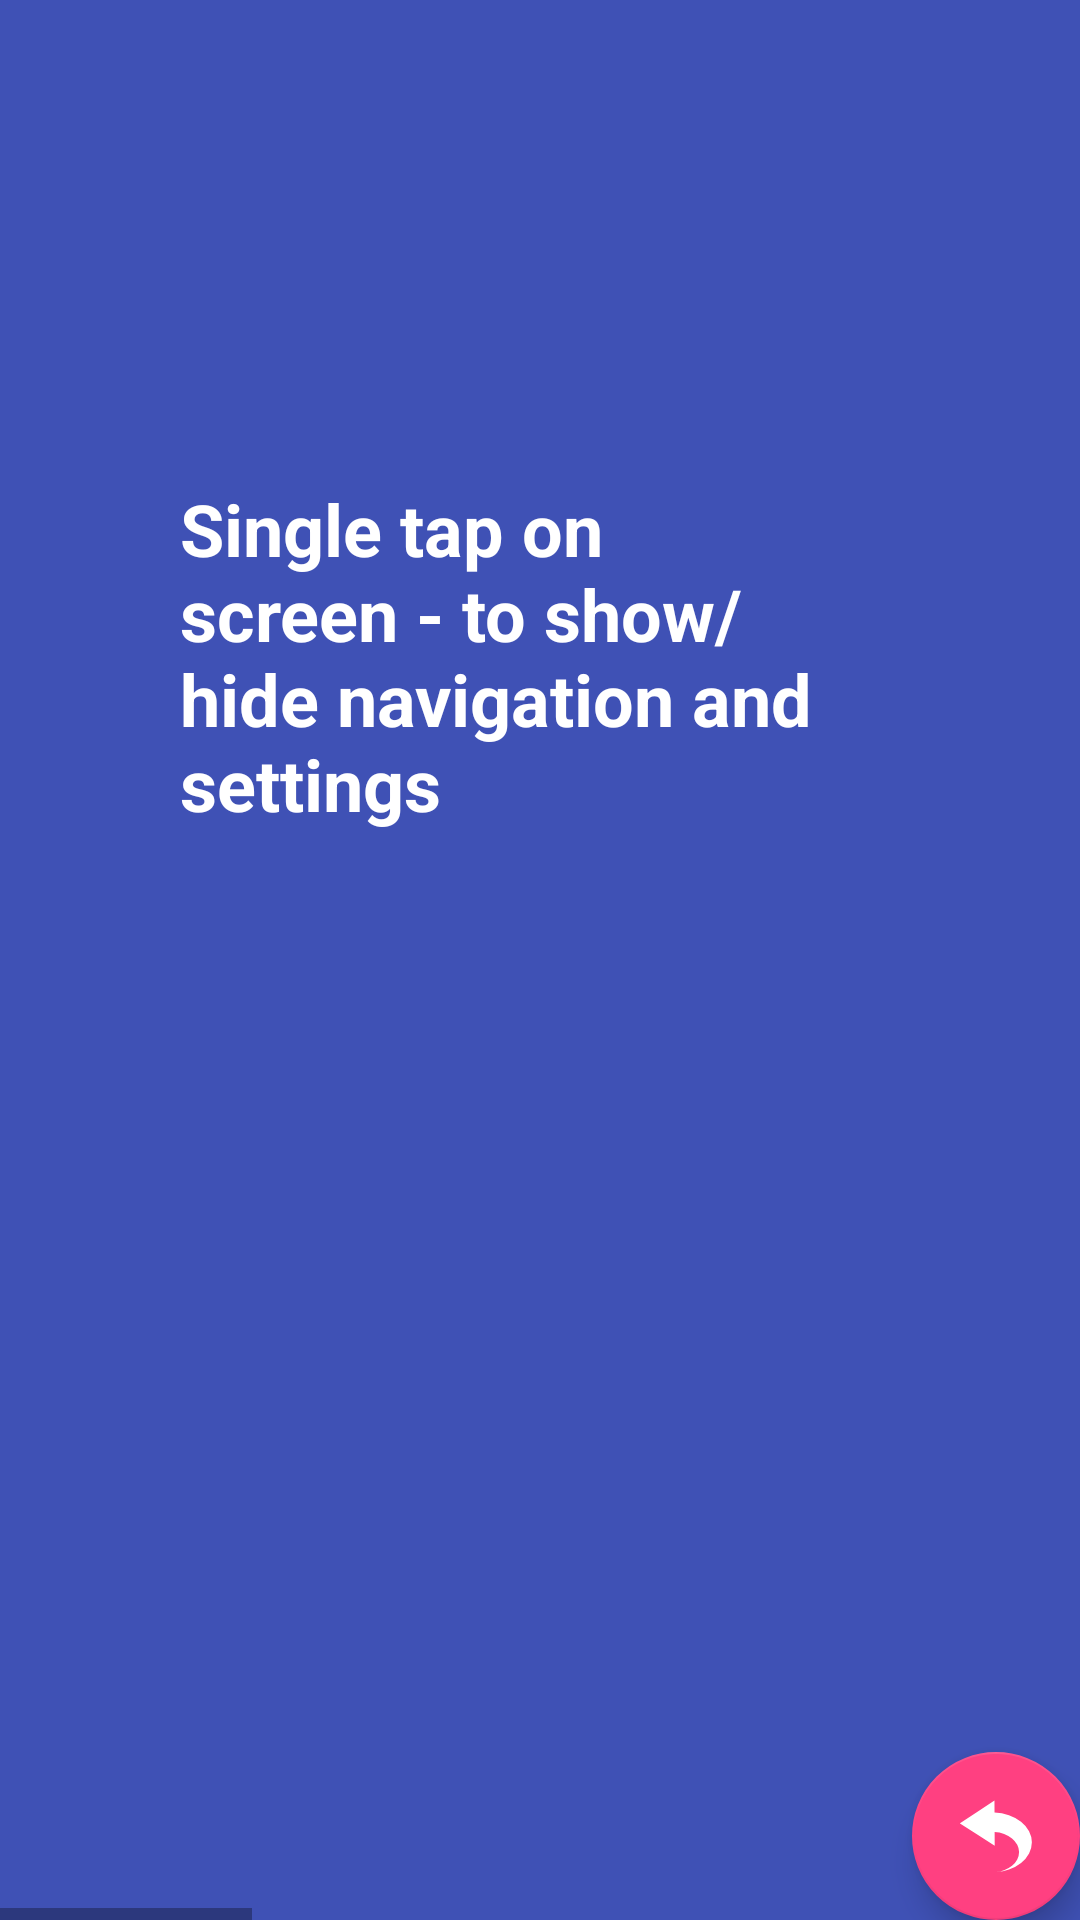

Screen size 1080*1920. Icon name, then its center in pixels as [x,y]:
return: [996,1836]
